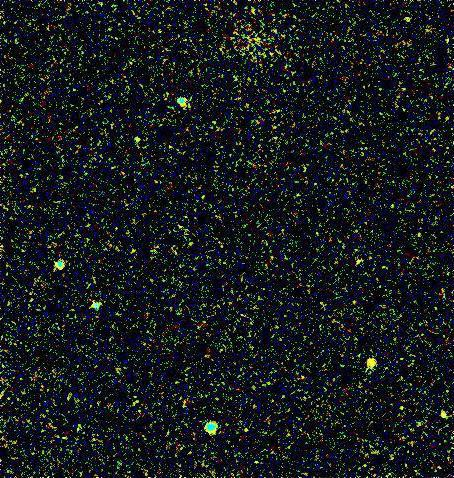star: (356, 349, 386, 379)
